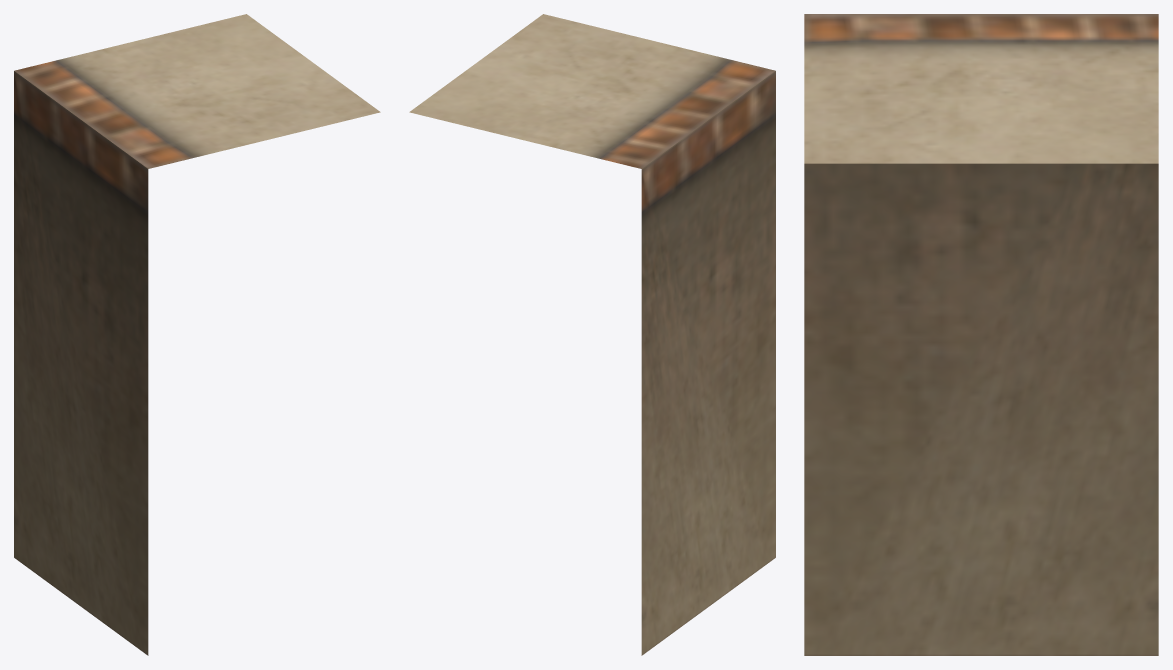
Rendered from normal_oneside.glb.
3 views of the same model, side by side, from view 1: azimuth 30°, elevation 25°; view 2: azimuth 150°, elevation 25°; view 3: azimuth 270°, elevation 25° (orthographic). The views are drawn at different scales.
Visible parts, largest first — view 1: SmallFlatBorder_90; view 2: SmallFlatBorder_90; view 3: SmallFlatBorder_90.
Boxes of the visible parts, x1=… form: SmallFlatBorder_90: x1=14, y1=14, x2=380, y2=655; SmallFlatBorder_90: x1=409, y1=14, x2=775, y2=655; SmallFlatBorder_90: x1=804, y1=14, x2=1158, y2=655.
Size of the model in its own units: 2.5 by 5 by 2.5.
2 materials, 2 textured.
